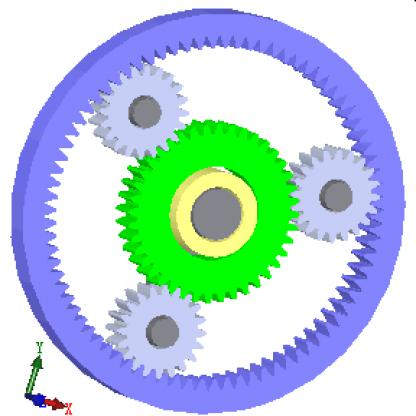FOD: (103, 278, 206, 380), (89, 61, 190, 160), (289, 138, 378, 240)
